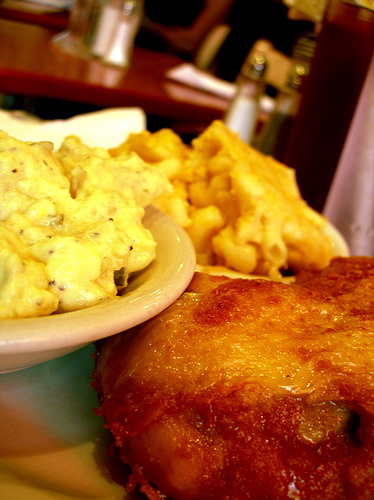macncheese: (1, 114, 350, 320)
